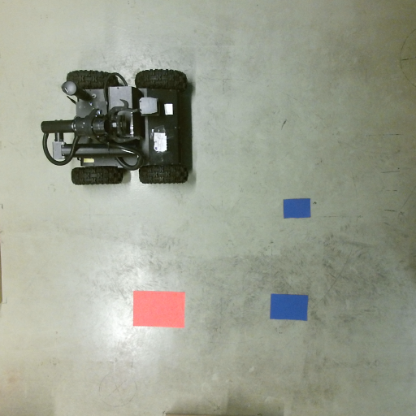Blue: (268, 291, 310, 323), (281, 197, 312, 219)
Jaguar: (38, 67, 192, 187)
Red: (131, 291, 188, 330)
